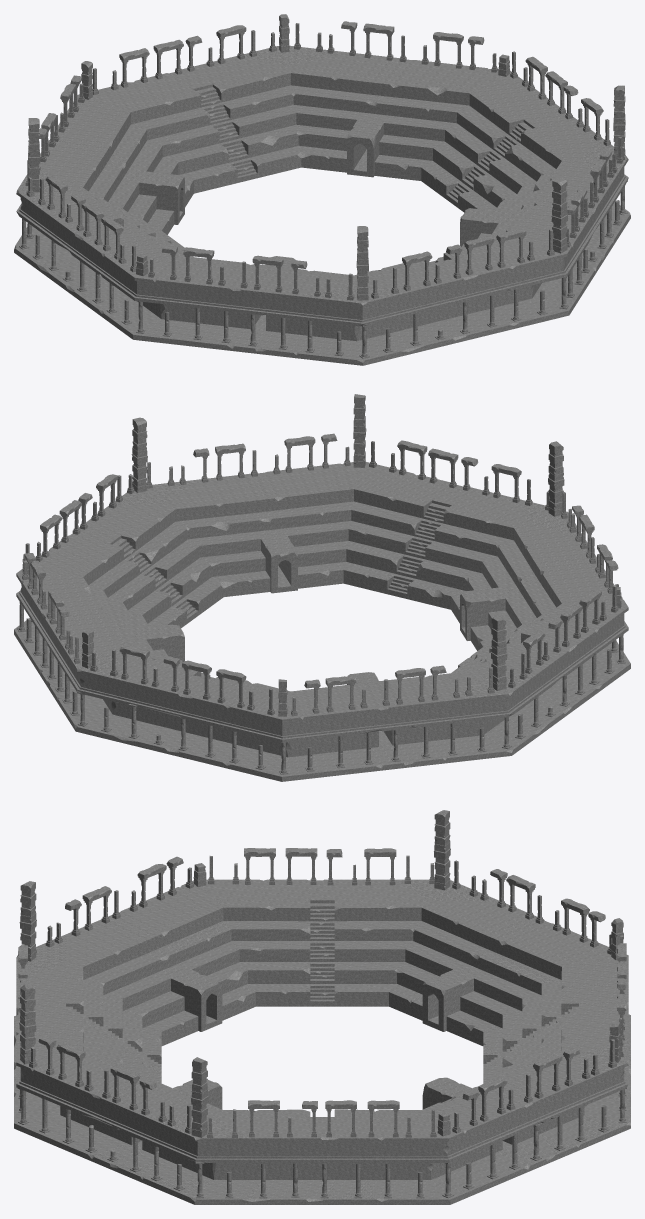
The model's file is materials_3_building_2.fbx.
3 views of the same model, one above another, from view 1: azimuth 30°, elevation 25°; view 2: azimuth 150°, elevation 25°; view 3: azimuth 270°, elevation 25° (orthographic). The views are drawn at different scales.
Parts seen in each view (by area): view 1: materials_3_building_2; view 2: materials_3_building_2; view 3: materials_3_building_2.
Boxes of the visible parts, box(x1,y1,x2,y2) form: materials_3_building_2: box(14, 14, 630, 365); materials_3_building_2: box(14, 394, 630, 781); materials_3_building_2: box(14, 810, 630, 1204).
Bounding box in the file's own units: 6976 × 1755 × 6976.
